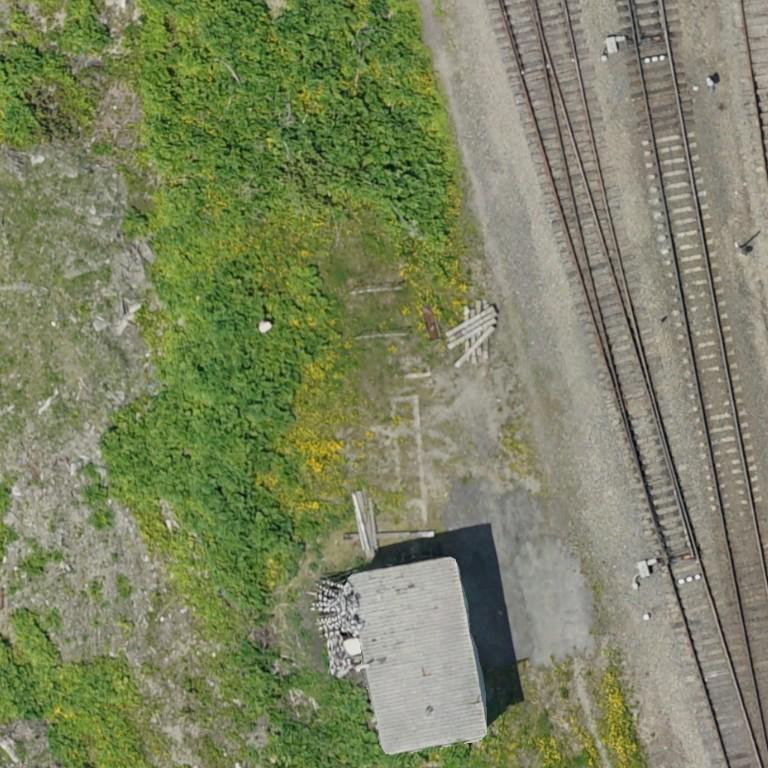hogweed: (110, 252, 339, 606), (184, 0, 450, 234)
